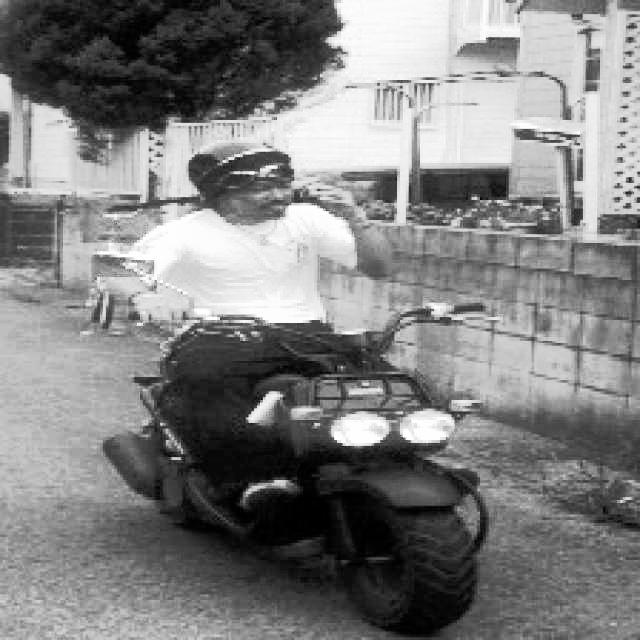Bike: (127, 344, 523, 636)
